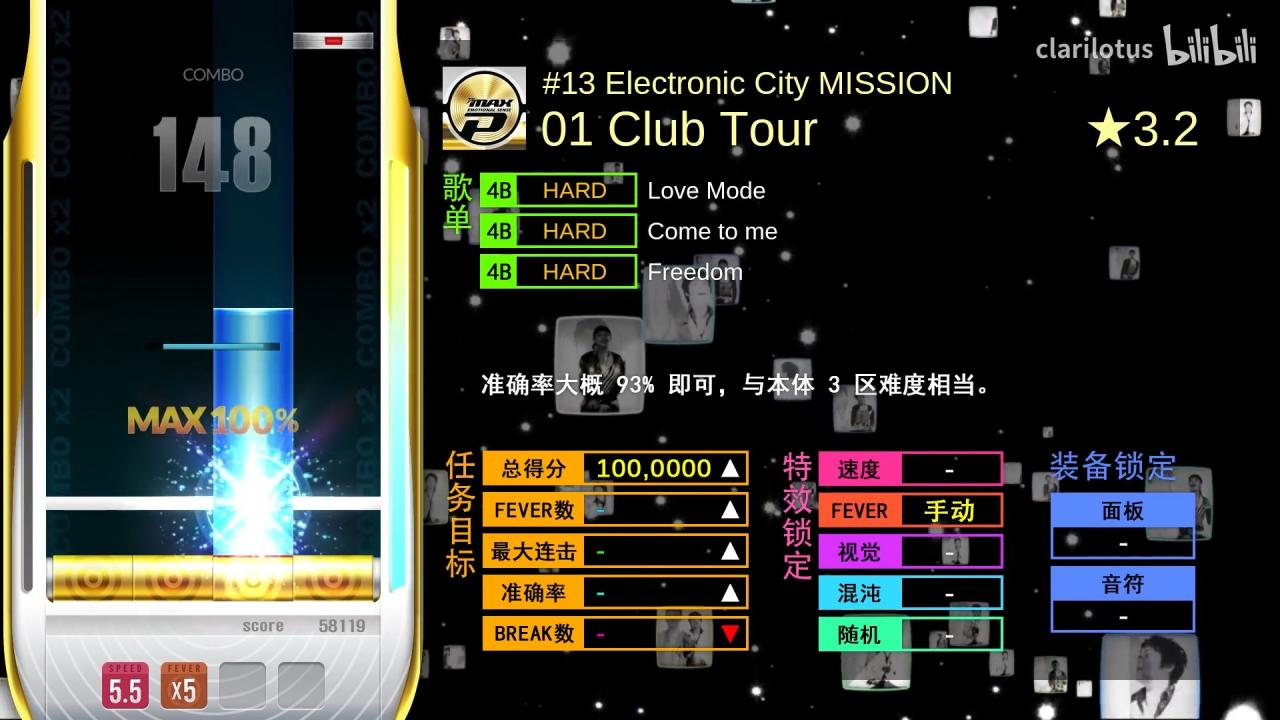hold-end: (214, 308, 294, 329)
note: (293, 31, 374, 50)
